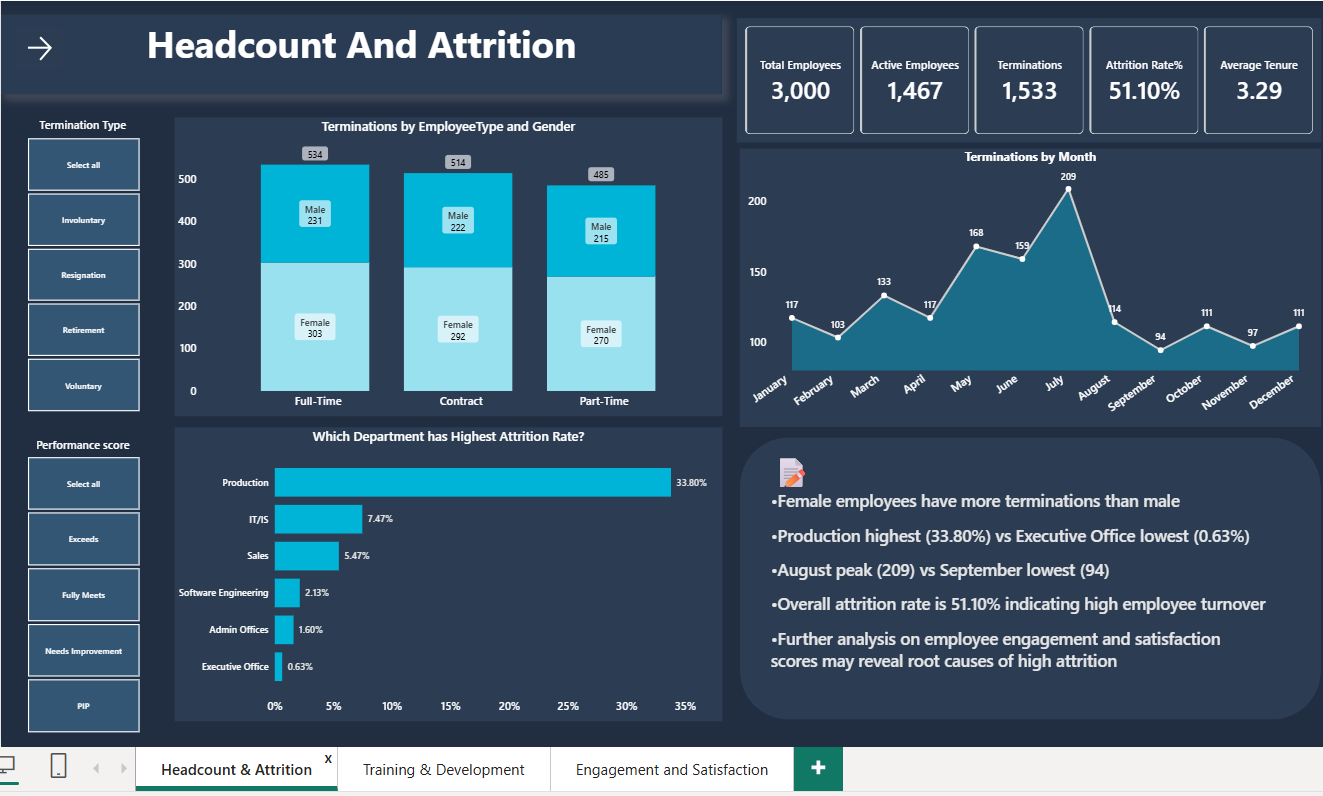

What the dashboard file says about the page in this screenshot:
{"tool":"powerbi","page":{"name":"Headcount & Attrition","canvas":[1920,1080],"ordinal":0},"visuals":[{"type":"cardVisual","fields":{"Data":["Measures (2).Total Employees","Measures (2).Active Employees","Measures (2).Terminations","Measures (2).Attrition Rate%","Measures (2).Average Tenure"]},"box":[1060.5,19.9,859.6,190],"z":0},{"type":"lineChart","fields":{"Category":["HR data.ExitDate.Variation.Date Hierarchy.Year","HR data.ExitDate.Variation.Date Hierarchy.Month","HR data.ExitDate.Variation.Date Hierarchy.Day"],"Y":["Measures (2).Terminations"]},"box":[1069.5,213.5,841.5,403.6],"z":1000},{"type":"clusteredBarChart","title":"Which Department has Highest Attrition Rate?","fields":{"Category":["HR data.DepartmentType"],"Y":["Measures (2).Attrition Rate%"]},"box":[251.5,617.1,792.6,425.3],"z":2000},{"type":"columnChart","title":"Terminations by EmployeeType and Gender","fields":{"Category":["HR data.EmployeeType"],"Y":["Measures (2).Terminations"],"Series":["HR data.GenderCode"]},"box":[251.5,168.3,792.6,432.5],"z":3000},{"type":"textbox","box":[0,20.6,1043.6,115.3],"z":4000},{"type":"slicer","title":"Termination Type","fields":{"Values":["HR data.TerminationType"]},"box":[12.7,168.3,211.7,432.5],"z":5000},{"type":"slicer","title":"Performance score","fields":{"Values":["HR data.Performance Score"]},"box":[12.7,631.6,211.7,434.3],"z":6000},{"type":"shape","box":[1069.5,631.6,841.5,409],"z":7000},{"type":"textbox","box":[1109.3,646,729.3,378.2],"z":8000},{"type":"actionButton","box":[19.9,38,70.6,61.5],"z":8001}]}

Visuals, with their boxes on the page's 1920x1080 design canvas (x1, y1, x2, y2). These are canvas units, not pixel positions in the 1323x796 screenshot, which may show the page scaled, cropped or inside an application window:
cardVisual - Measures (2).Total Employees x Measures (2).Active Employees: (x1=1060, y1=20, x2=1920, y2=210)
lineChart - HR data.ExitDate.Variation.Date Hierarchy.Year x HR data.ExitDate.Variation.Date Hierarchy.Month: (x1=1070, y1=214, x2=1911, y2=617)
"Which Department has Highest Attrition Rate?" clusteredBarChart: (x1=252, y1=617, x2=1044, y2=1042)
"Terminations by EmployeeType and Gender" columnChart: (x1=252, y1=168, x2=1044, y2=601)
textbox: (x1=0, y1=21, x2=1044, y2=136)
"Termination Type" slicer: (x1=13, y1=168, x2=224, y2=601)
"Performance score" slicer: (x1=13, y1=632, x2=224, y2=1066)
shape: (x1=1070, y1=632, x2=1911, y2=1041)
textbox: (x1=1109, y1=646, x2=1839, y2=1024)
actionButton: (x1=20, y1=38, x2=90, y2=100)
